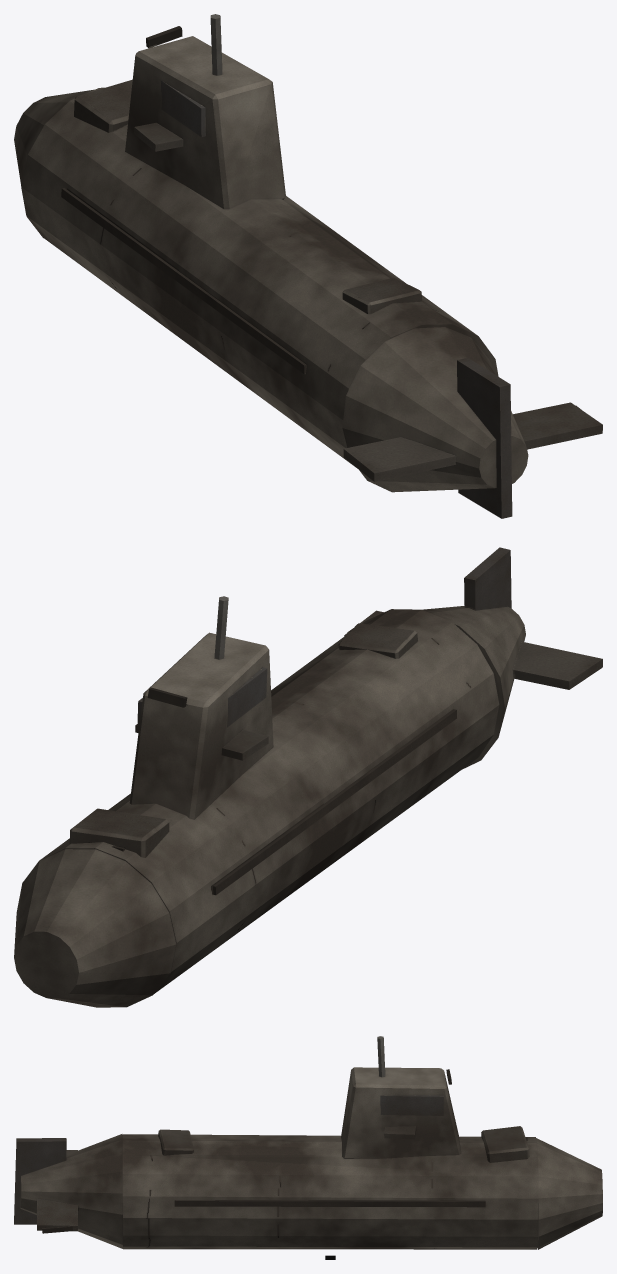
Rendered from ord_silence_wreck.fbx.
The picture shows the model from 3 angles, top to bottom: view 1: azimuth 30°, elevation 25°; view 2: azimuth 150°, elevation 25°; view 3: azimuth 270°, elevation 25°; orthographic projection. The views are drawn at different scales.
Parts seen in each view (by area): view 1: base_bar, turret1_bar, turret2_bar; view 2: base_bar, turret1_bar, turret2_bar; view 3: base_bar, turret1_bar, turret2_bar.
Part boxes in pixels (x1=…): base_bar: x1=14, y1=14, x2=602, y2=518; turret1_bar: x1=74, y1=79, x2=132, y2=132; turret2_bar: x1=342, y1=277, x2=421, y2=314; base_bar: x1=14, y1=547, x2=602, y2=1007; turret1_bar: x1=69, y1=808, x2=169, y2=857; turret2_bar: x1=338, y1=623, x2=417, y2=658; base_bar: x1=14, y1=1036, x2=602, y2=1249; turret1_bar: x1=481, y1=1126, x2=529, y2=1162; turret2_bar: x1=158, y1=1129, x2=193, y2=1155.
Size of the model in its own units: 329 by 468 by 1142.
2 materials, 2 textured.
